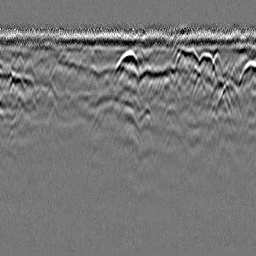cavity: (115, 48, 140, 72)
